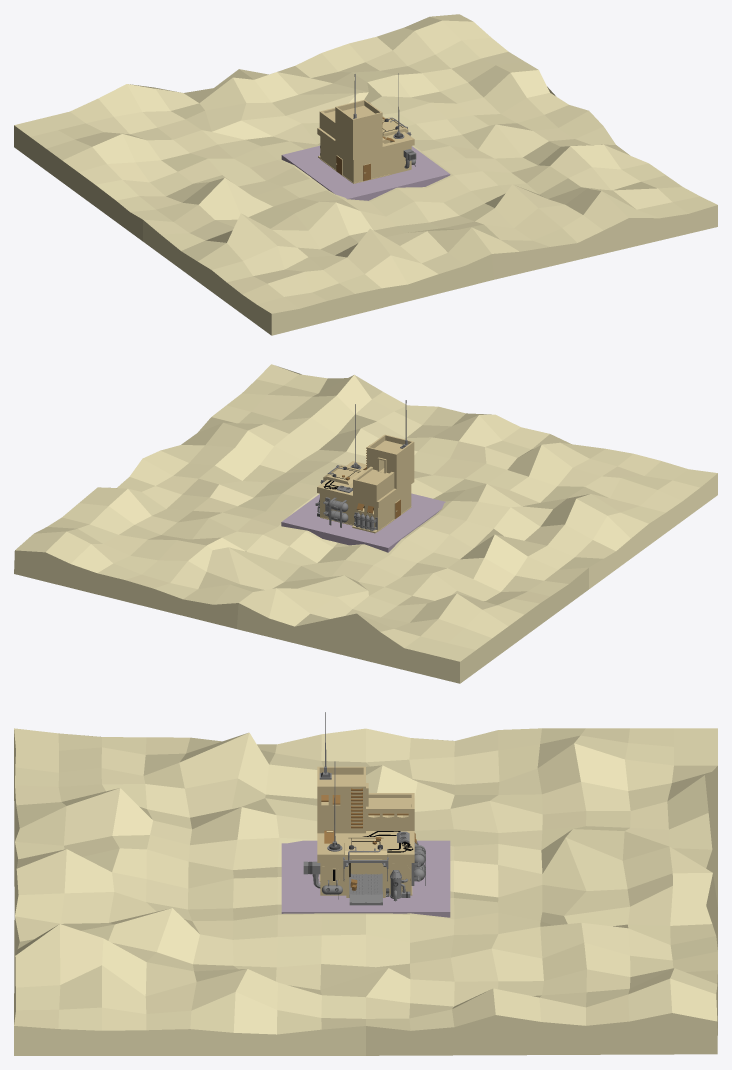
File: Military Base.fbx
3 renders of one model, top to bottom at view 1: azimuth 30°, elevation 25°; view 2: azimuth 150°, elevation 25°; view 3: azimuth 270°, elevation 25°, orthographic. The views are drawn at different scales.
Visible parts, largest first — view 1: Plane; view 2: Plane; view 3: Plane.
Boxes of the visible parts, x1,y1,x2,y2 form: Plane: (14, 14, 717, 335); Plane: (14, 364, 717, 683); Plane: (14, 712, 717, 1055).
Bounding box in the file's own units: 9356 × 2607 × 9356.
